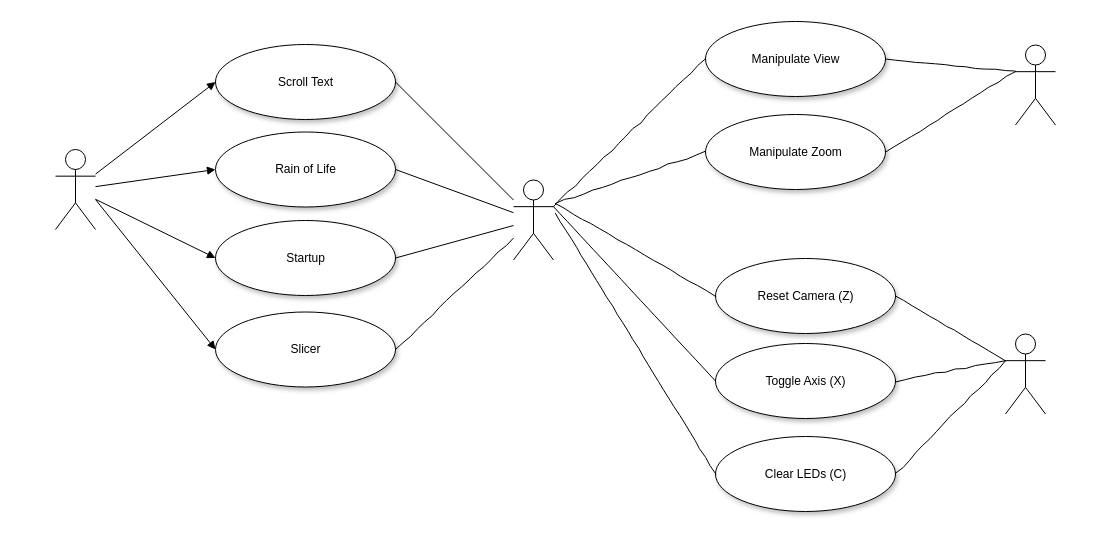
The diagram is 1094 pixels wide and 536 high, and some of its shapes have lost their labels. Here are the shapes that lost their labels. From the top down, the centre of each, then its label:
At pixel 1035 84: "Keyboard".
At pixel 75 189: "Python Client".
At pixel 533 219: "CubeApp Server".
At pixel 1025 373: "Mouse".
